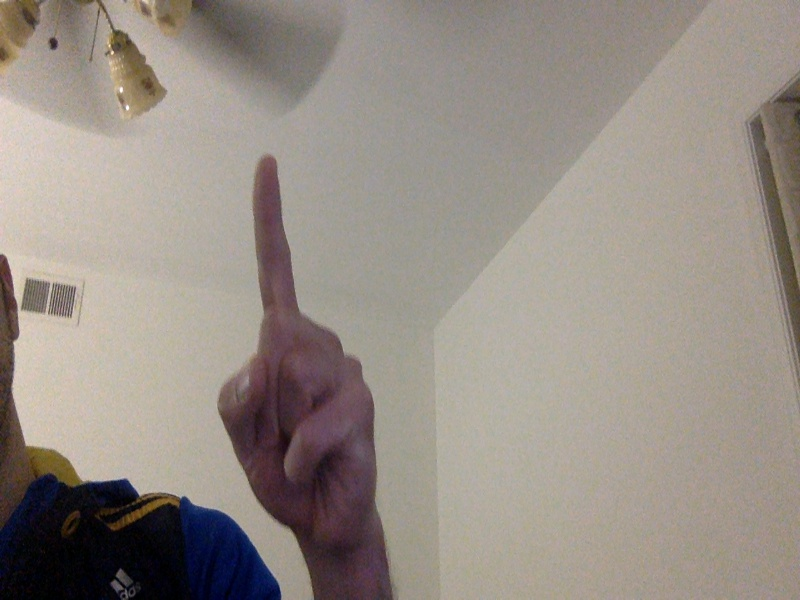1-hand: (218, 155, 378, 562)
